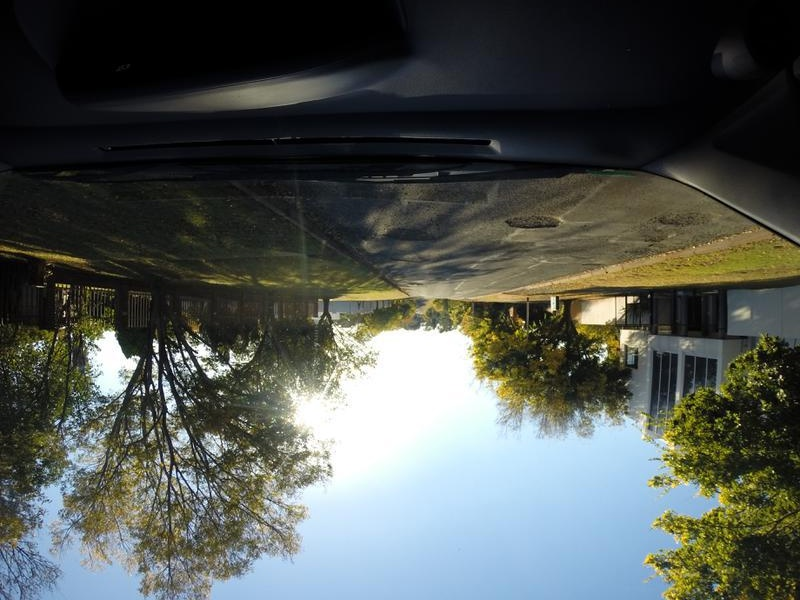pothole: (506, 201, 568, 238), (383, 222, 456, 245), (653, 205, 710, 228), (386, 247, 435, 270)
